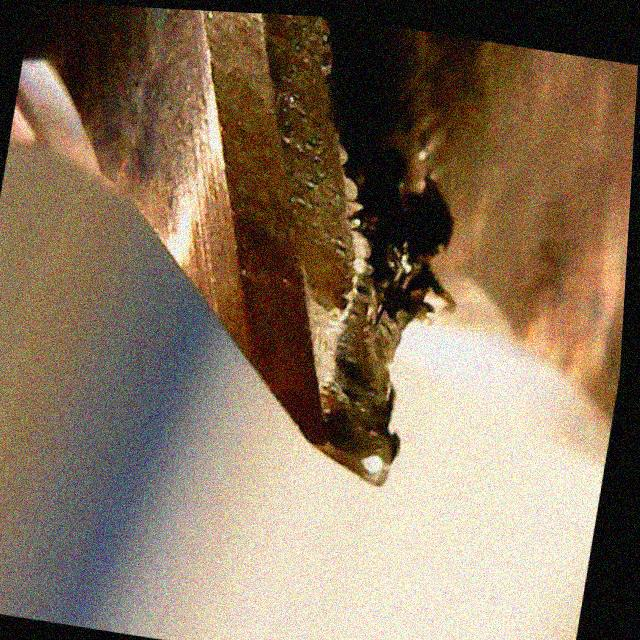Tool-wear-class-3: (230, 233, 456, 495)
